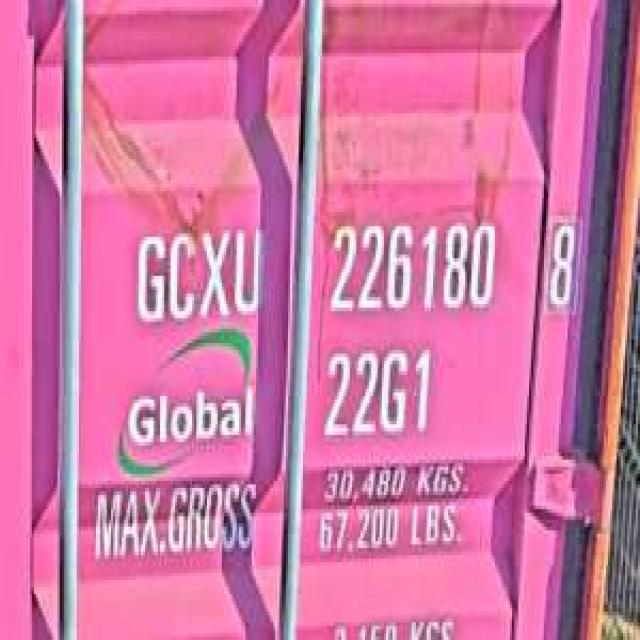dv: (540, 208, 582, 314)
owner: (130, 216, 263, 329)
serial: (324, 209, 502, 325)
size: (320, 339, 435, 442)
